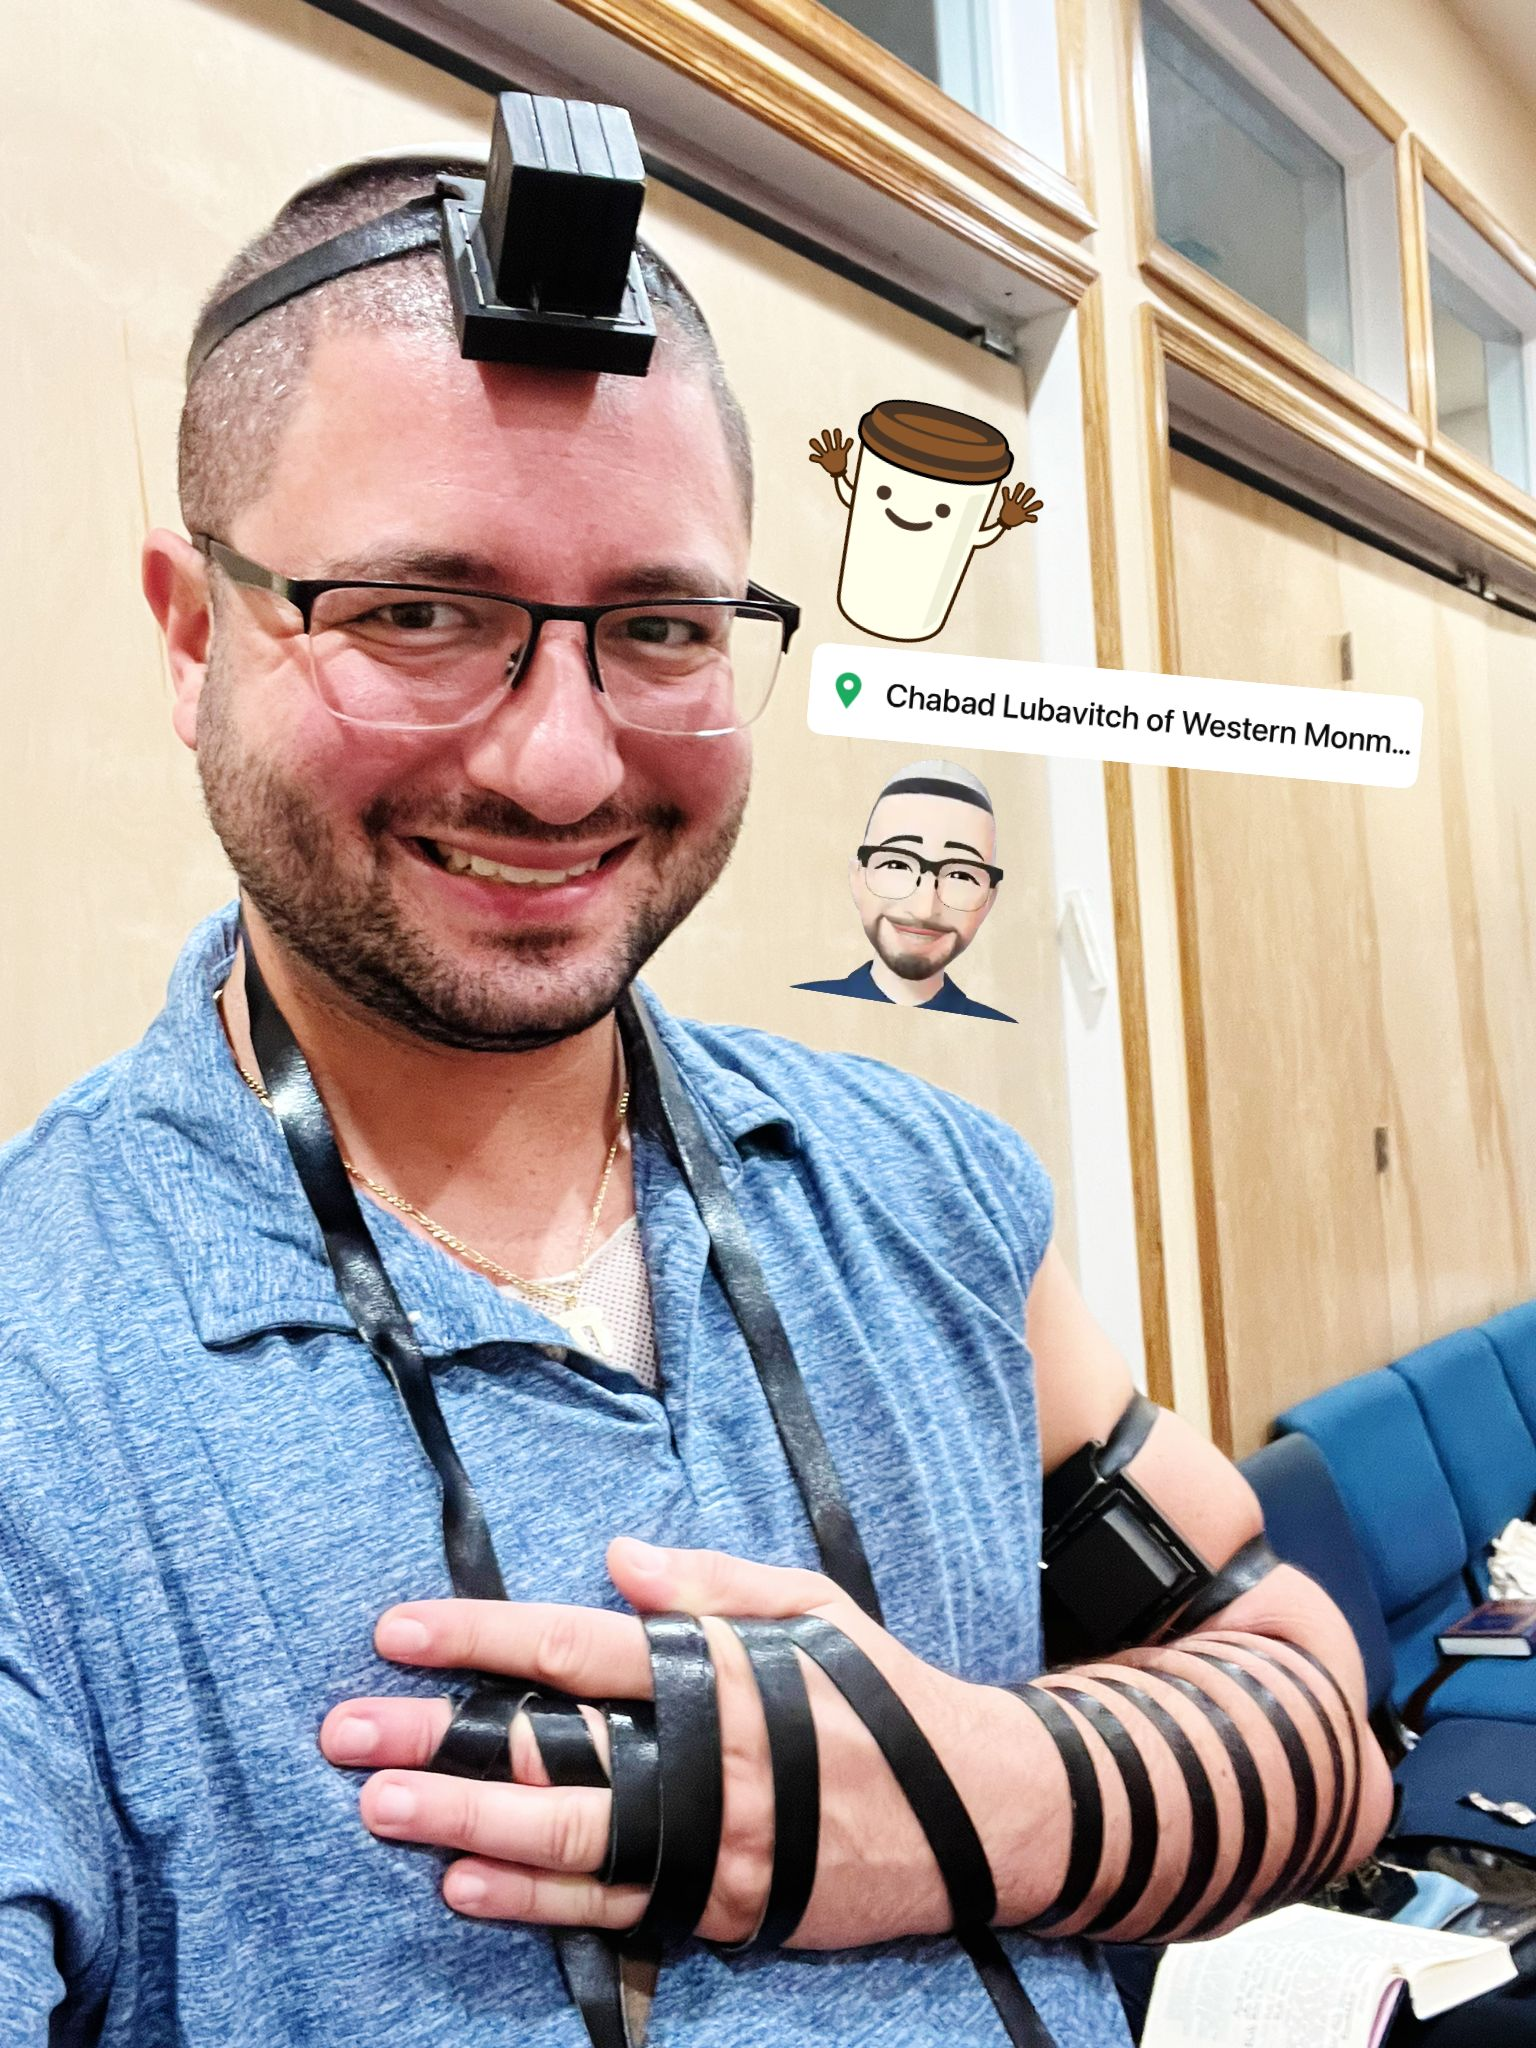tefillin: (424, 94, 658, 374), (1041, 1438, 1218, 1643)
